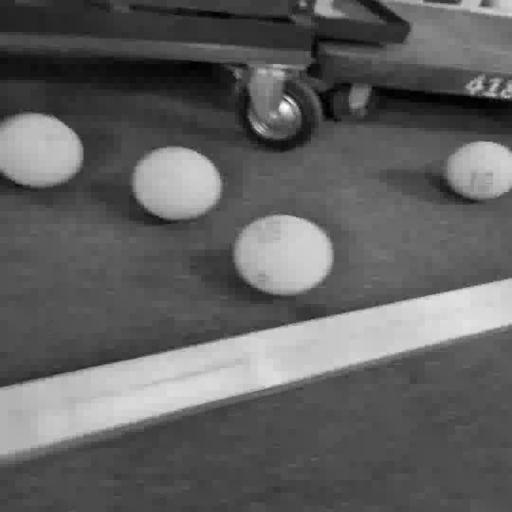fuel: (233, 215, 333, 295), (132, 147, 221, 220), (0, 112, 83, 188), (443, 141, 512, 200)
